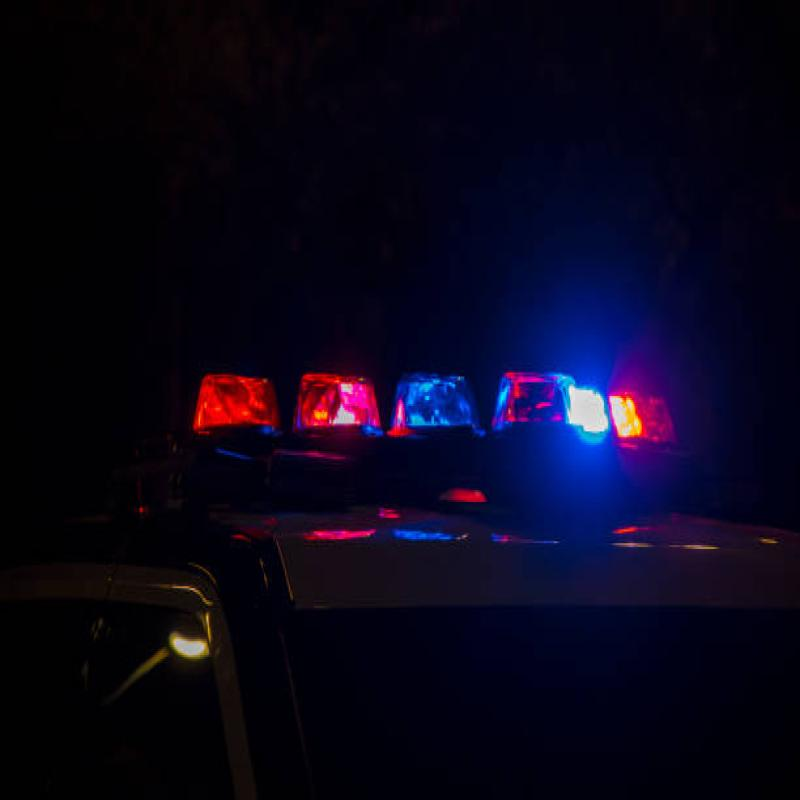AmbulanceSiren: (167, 326, 702, 537)
